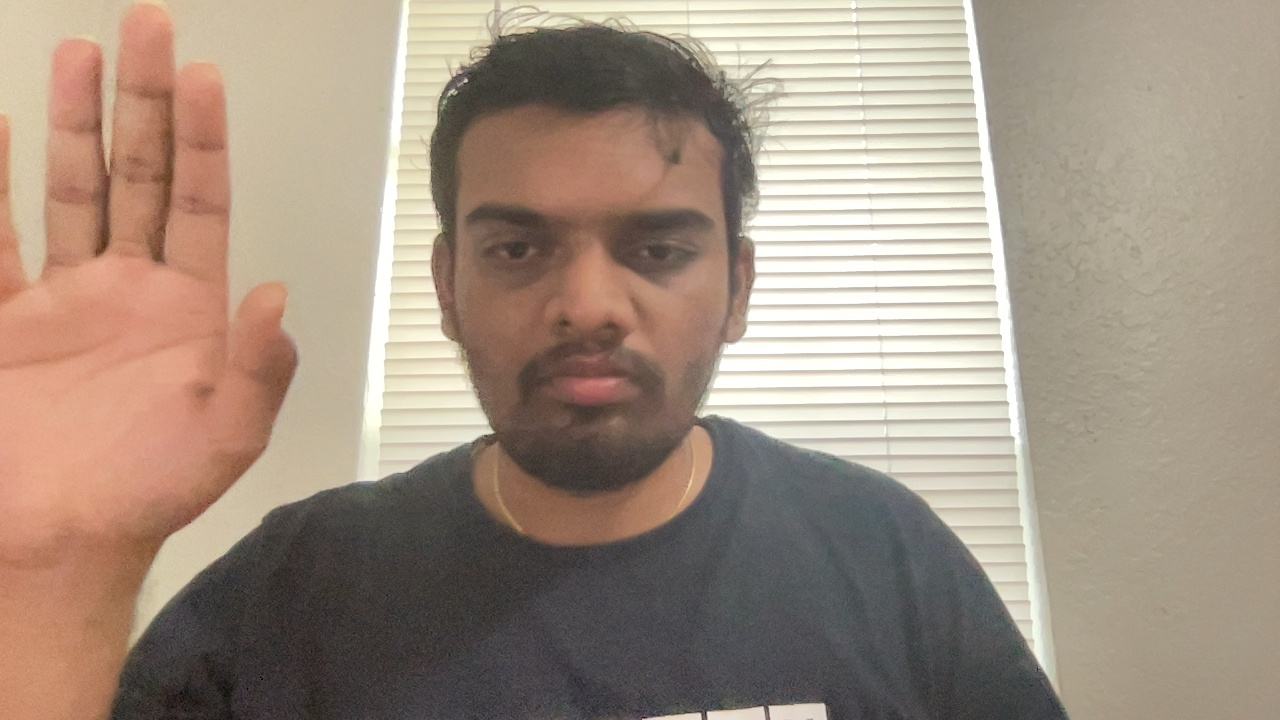hello: (1, 3, 303, 553)
